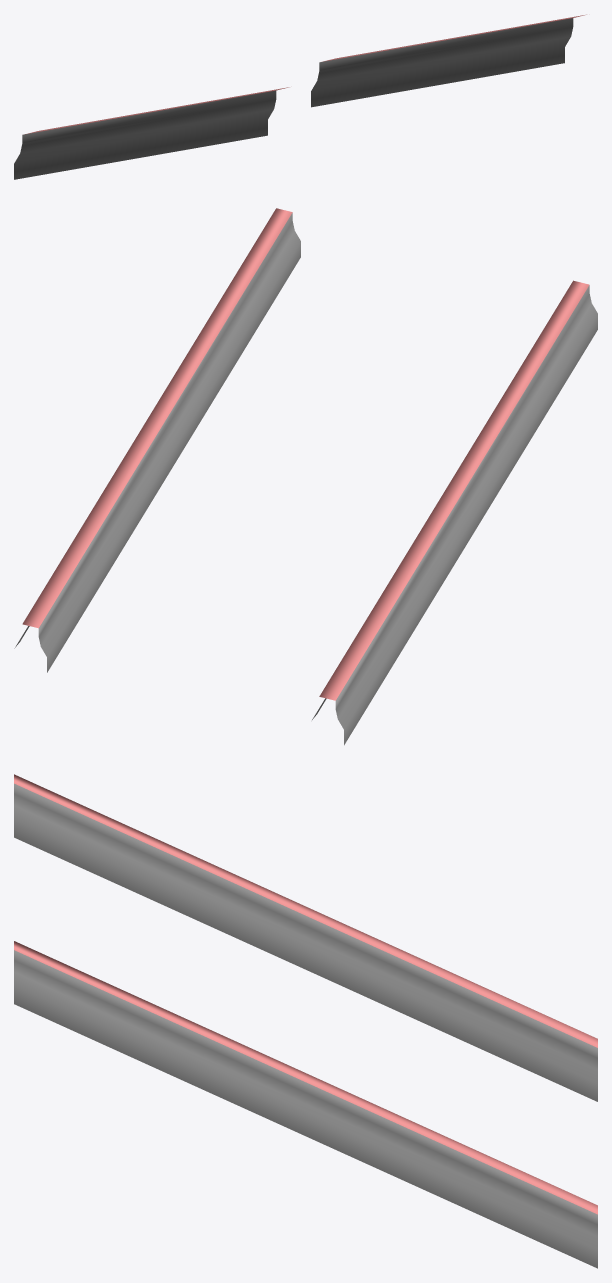
Rendered from sylentemple_ent_stair.gltf.
The picture shows the model from 3 angles, top to bottom: view 1: azimuth 30°, elevation 25°; view 2: azimuth 150°, elevation 25°; view 3: azimuth 270°, elevation 25°; orthographic projection. The views are drawn at different scales.
Visible parts, largest first — view 1: sylentemple_ent_stair; view 2: sylentemple_ent_stair; view 3: sylentemple_ent_stair.
Boxes of the visible parts, x1,y1,x2,y2 form: sylentemple_ent_stair: (14, 14, 586, 179); sylentemple_ent_stair: (14, 208, 597, 745); sylentemple_ent_stair: (14, 774, 597, 1268).
Size of the model in its own units: 3.84 by 3.04 by 5.12.
